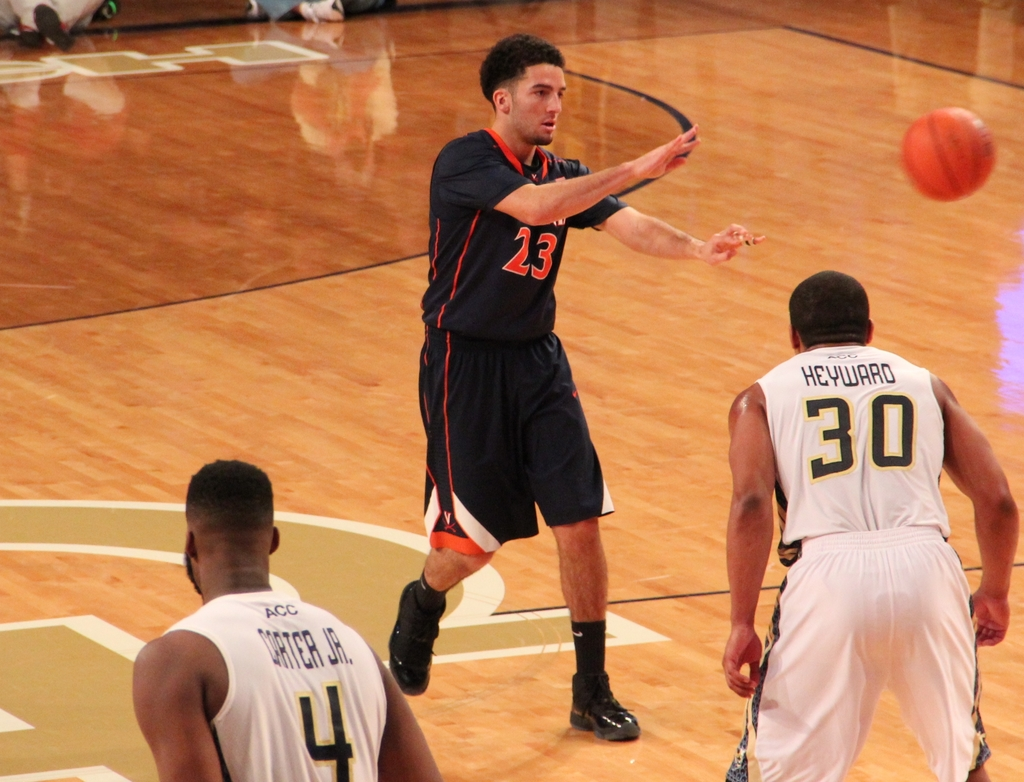Ball: (902, 107, 996, 204)
